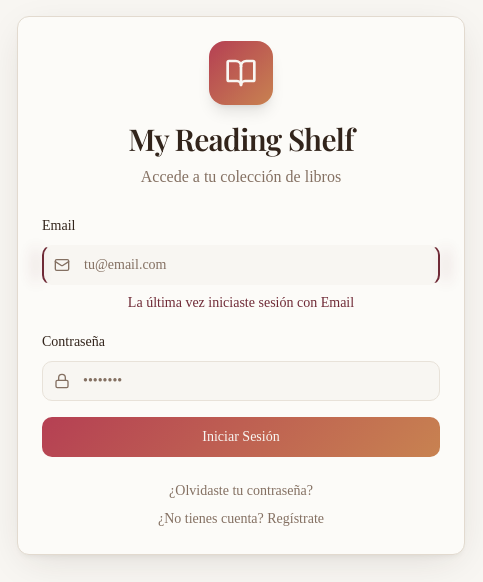
Test: AuthForm last used sign-in marker › GIVEN a stored email sign-in WHEN the sign-in view is shown THEN the email field is marked
The image size is (483, 582).
expect the text with test id "last-used-sign-in-caption" reads "La última vez iniciaste sesión con Email": met, box [128,294,354,310]
What coordinates should you click on to do the following:
click the button "¿No tienes cuenta? Regístrate"
I would click on:
 (241, 518)
Its box is [158,508,324,528].
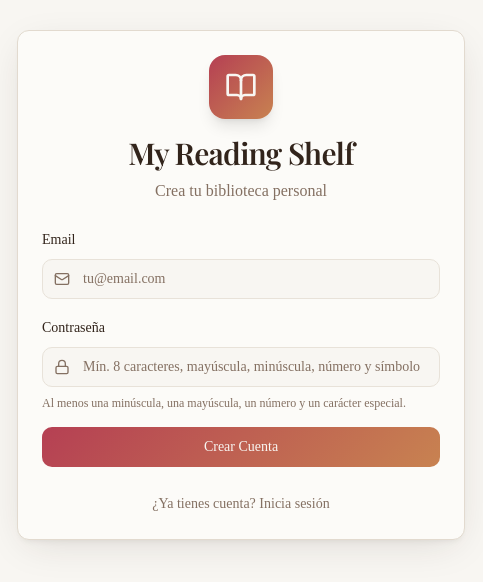
expect the text with test id "last-used-sign-in-caption" is gone: met
What coordinates should you click on to do the following:
click the button "¿Ya tienes cuenta? Inicia sesión"
I would click on:
 (241, 504)
Its box is [152,494,330,514].
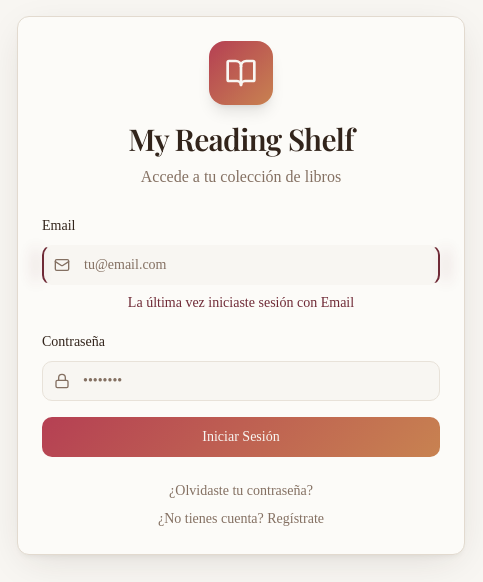
What coordinates should you click on to do the following:
click the button "¿Olvidaste tu contraseña?"
I would click on:
 (241, 490)
Its box is [42,480,440,500].
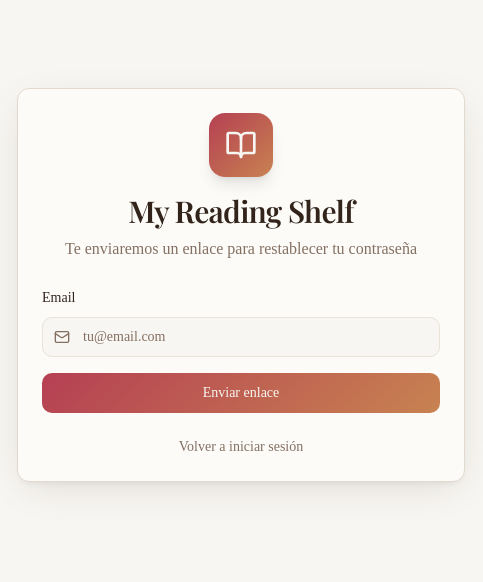
expect the text with test id "last-used-sign-in-caption" is gone: met
